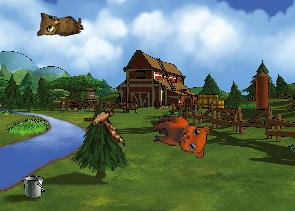bear: (150, 115, 210, 158)
eagle: (79, 100, 133, 146)
owl: (33, 4, 84, 41)
